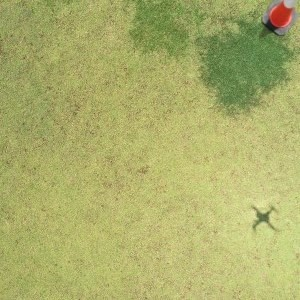traffic cone: (261, 1, 300, 36)
